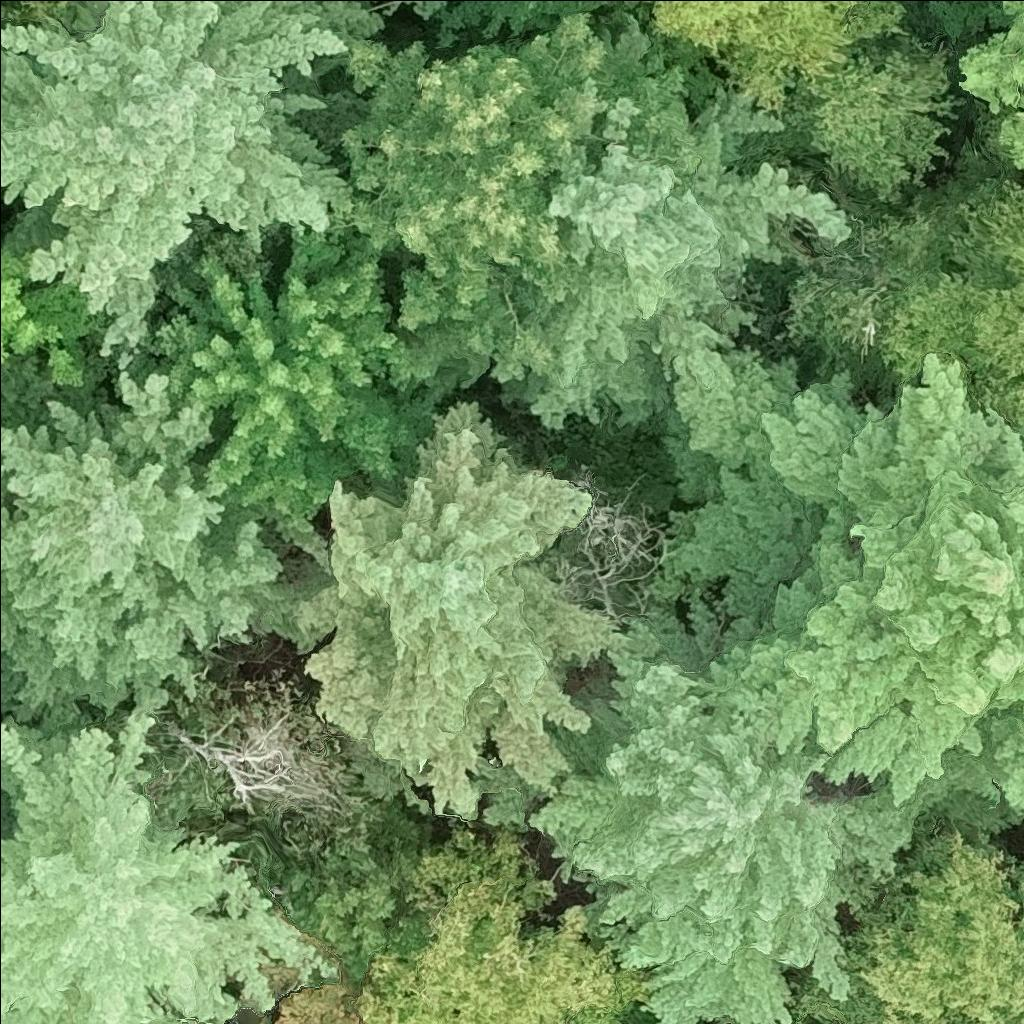crown: (535, 597, 902, 1023), (295, 23, 685, 409), (297, 403, 624, 824), (0, 0, 379, 363), (735, 354, 1023, 828), (502, 88, 844, 429), (0, 372, 332, 711), (0, 714, 330, 1023), (156, 239, 438, 542), (777, 128, 1023, 429), (353, 830, 658, 1023), (638, 341, 822, 646), (803, 833, 1023, 1023), (769, 37, 959, 200), (640, 0, 897, 120), (261, 828, 435, 987), (175, 694, 344, 817), (0, 256, 103, 389), (945, 0, 1023, 168), (258, 979, 369, 1023), (23, 0, 90, 28)
